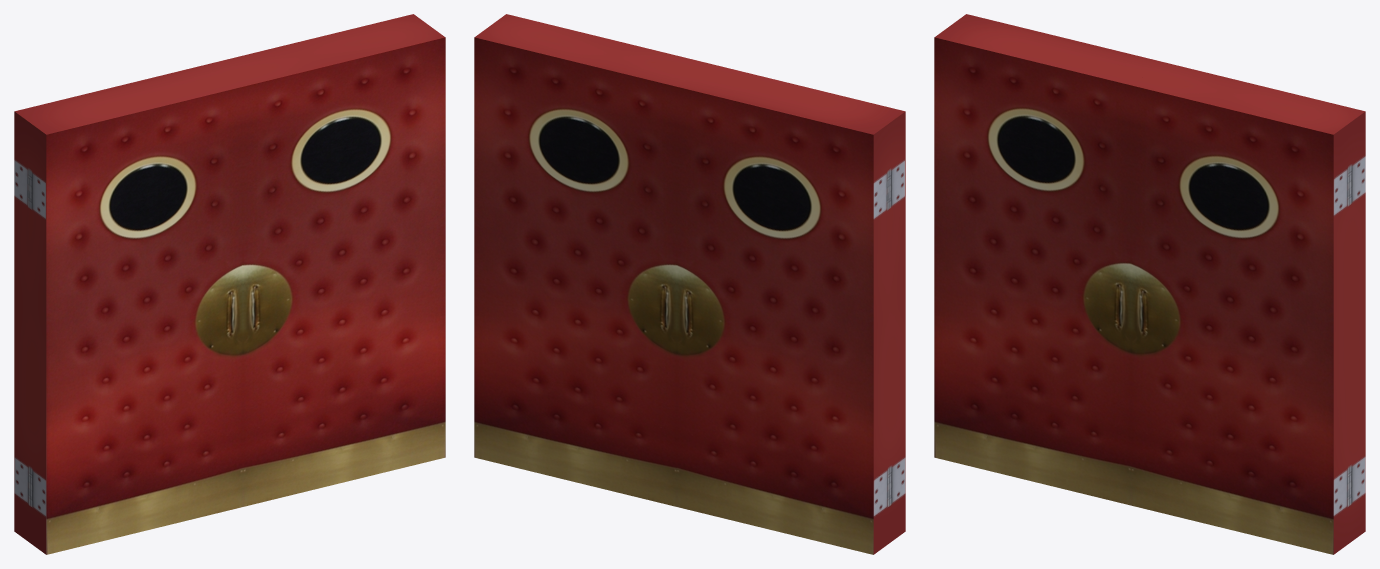
File: Puerta_TH_CC.fbx
The picture shows the model from 3 angles, left to right: view 1: azimuth 30°, elevation 25°; view 2: azimuth 150°, elevation 25°; view 3: azimuth 330°, elevation 25°; orthographic projection.
Parts seen in each view (by area): view 1: Puerta2_TH_CC, Puerta1_TH_CC; view 2: Puerta2_TH_CC, Puerta1_TH_CC; view 3: Puerta1_TH_CC, Puerta2_TH_CC.
Boxes of the visible parts, box(x1,y1,x2,y2) form: Puerta2_TH_CC: box(14, 63, 242, 554); Puerta1_TH_CC: box(211, 14, 445, 506); Puerta2_TH_CC: box(677, 63, 905, 554); Puerta1_TH_CC: box(474, 14, 708, 506); Puerta1_TH_CC: box(1131, 62, 1365, 554); Puerta2_TH_CC: box(934, 14, 1162, 505).
Bounding box in the file's own units: 448 × 451 × 62.14.
Materials: 2 (2 with a texture image).
